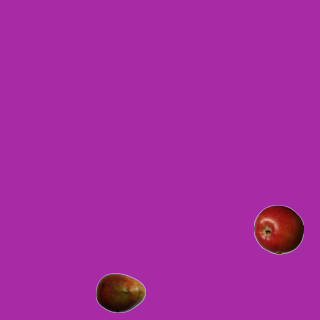Apple Braeburn: (253, 204, 303, 254)
Mango Red: (95, 267, 145, 317)
